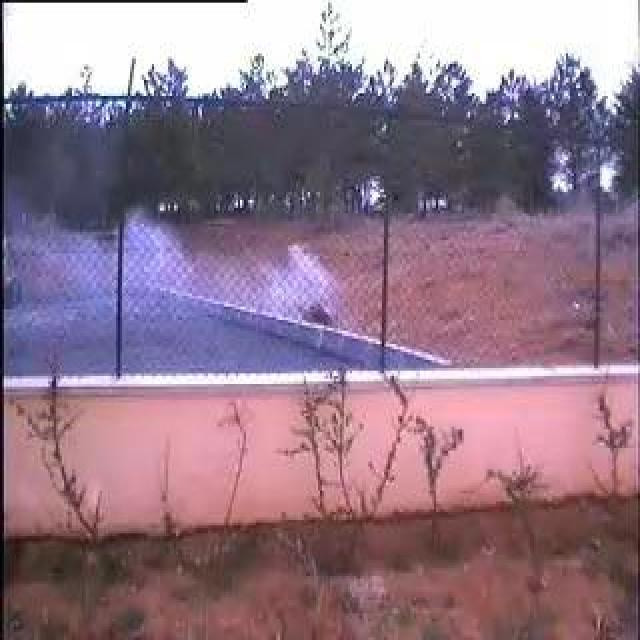Smoke: (74, 202, 342, 378)
